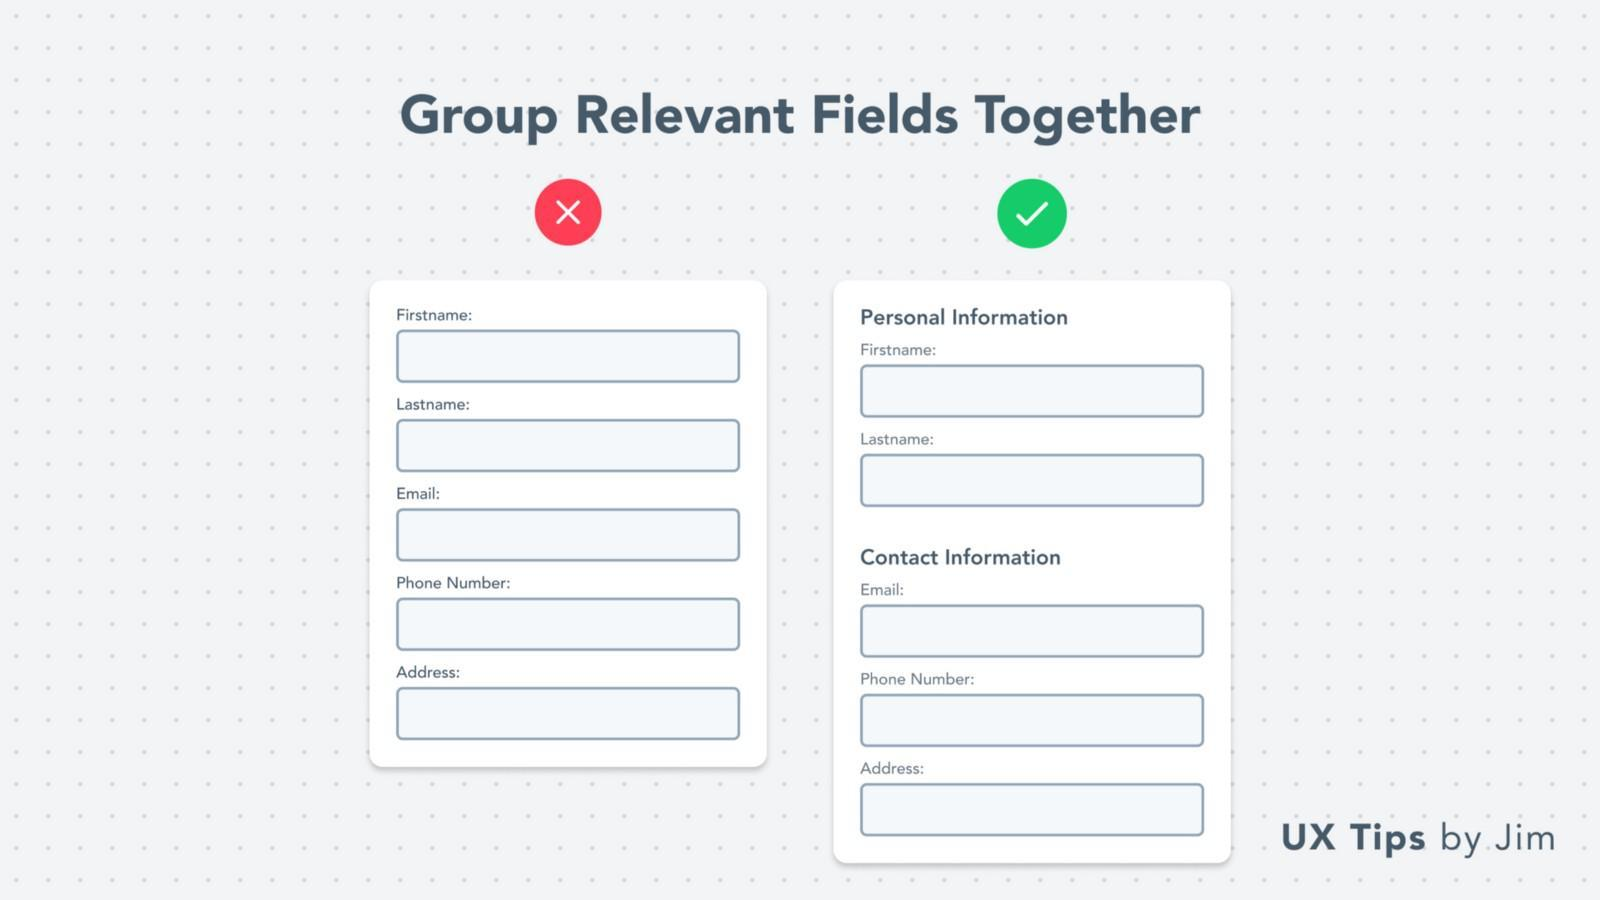input: (862, 605, 1204, 660), (397, 510, 741, 563), (862, 696, 1204, 748), (864, 367, 1205, 419), (399, 688, 740, 738), (863, 787, 1203, 837), (398, 601, 741, 651), (862, 456, 1203, 505), (397, 331, 741, 379), (401, 423, 741, 470)
label: (859, 670, 979, 693), (395, 578, 514, 596), (855, 427, 938, 451), (856, 340, 938, 360), (393, 395, 473, 415), (395, 305, 474, 325), (860, 762, 927, 782), (395, 666, 463, 684), (395, 487, 443, 505), (857, 584, 905, 600)
